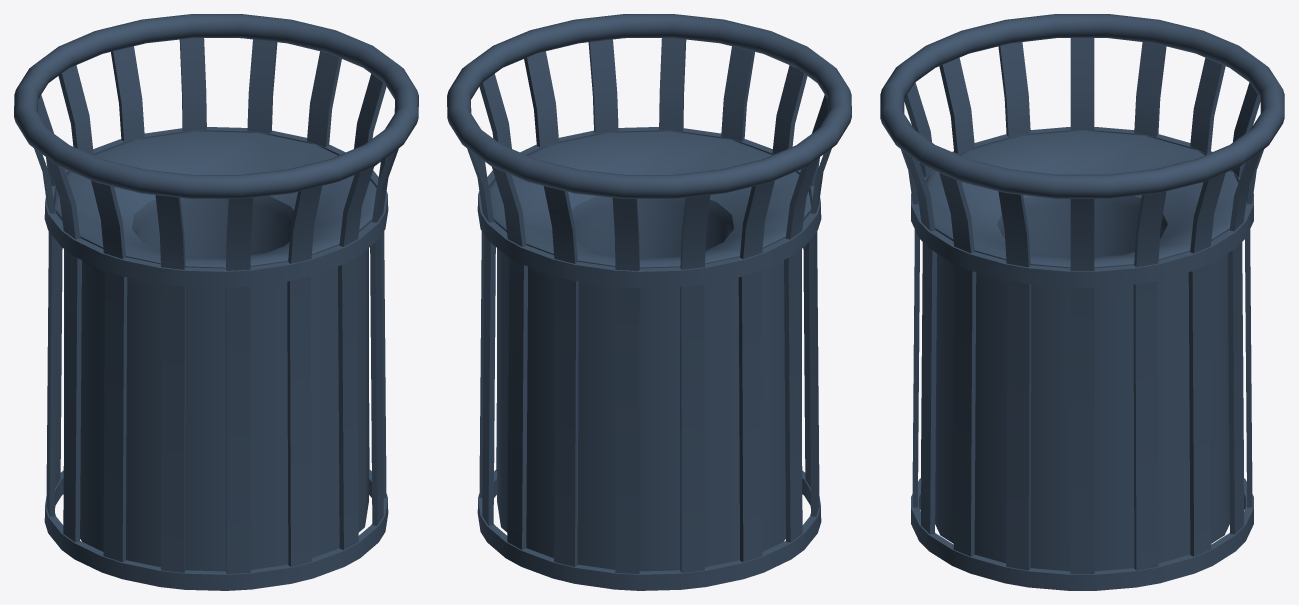
Rendered from M〕leimer.fbx.
3 renders of one model, left to right at view 1: azimuth 30°, elevation 25°; view 2: azimuth 150°, elevation 25°; view 3: azimuth 270°, elevation 25°, orthographic.
Parts seen in each view (by area): view 1: Mülleimer; view 2: Mülleimer; view 3: Mülleimer.
Boxes of the visible parts, box(x1,y1,x2,y2) form: Mülleimer: box(14, 14, 418, 590); Mülleimer: box(447, 14, 851, 590); Mülleimer: box(880, 14, 1284, 590).
Bounding box in the file's own units: 71.54 × 82.57 × 71.54.
